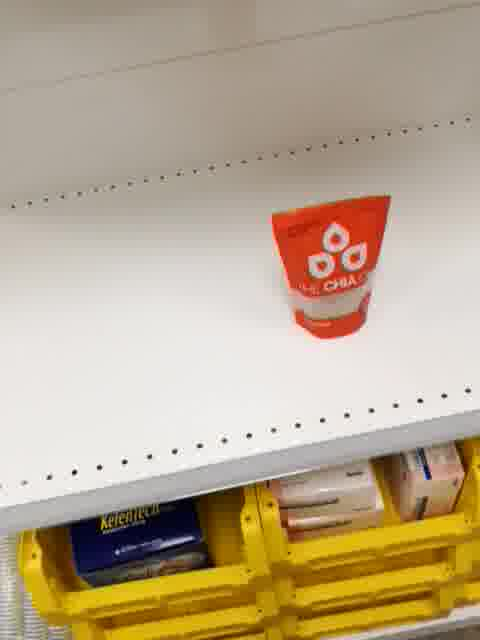whitechia: (268, 194, 393, 340)
